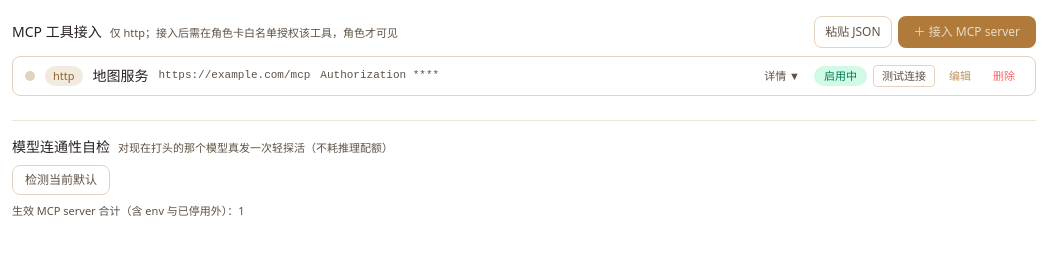
Test: ExtensionPanel › 测试连接：转绿并展开显示工具
This screenshot has width=1048, height=273.
Expected: the text "地图服务" is shown, [92,66,148,86]
Click the button "测试连接".
click(904, 76)  # box [873,65,935,87]
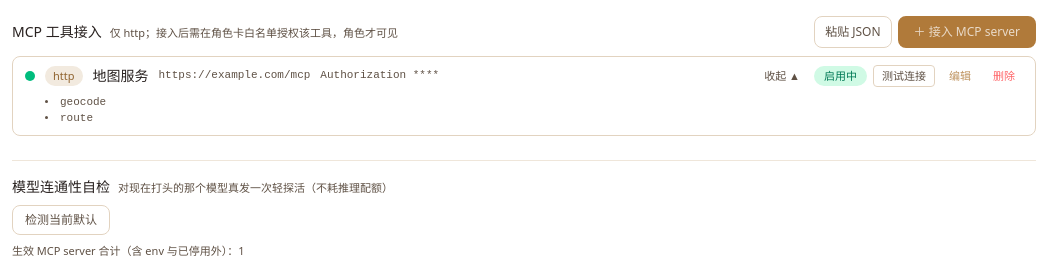
Expected: the list item "geocode" is shown, [60,96,106,108]
Expected: the list item "route" is shown, [60,112,93,124]
